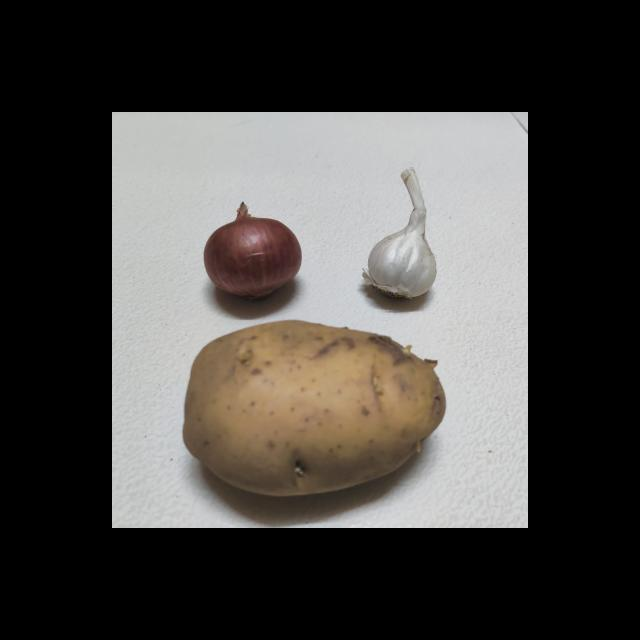garlic: (359, 159, 457, 300)
onion: (183, 198, 331, 309)
potato: (177, 317, 453, 504)
